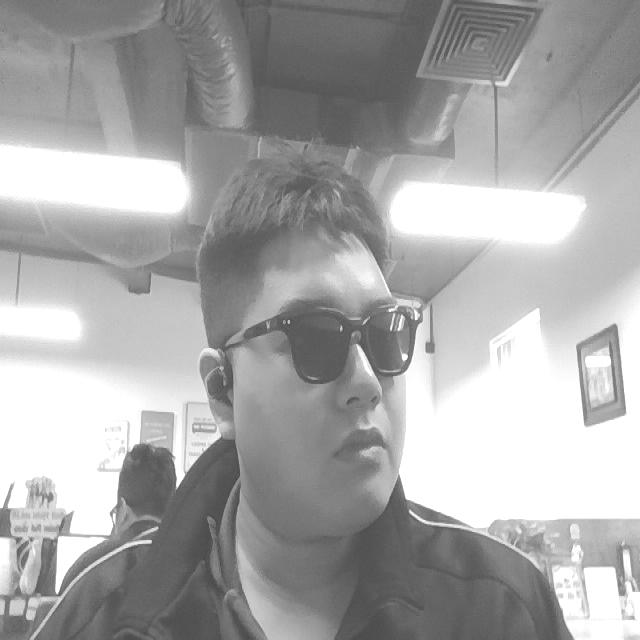fake: (226, 303, 423, 382)
real: (204, 160, 409, 537)
